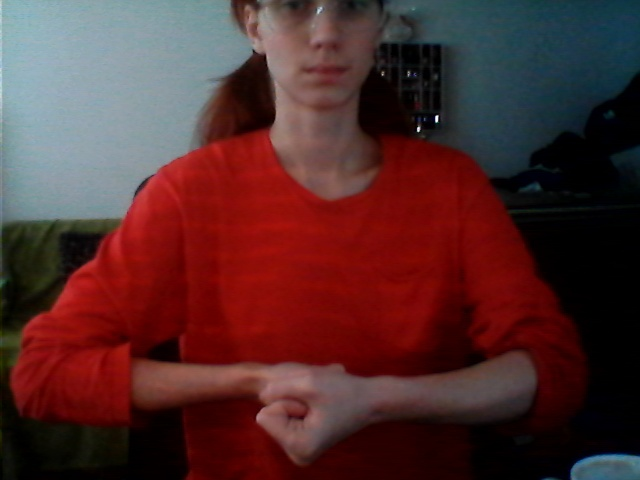hasic: (197, 336, 430, 463)
